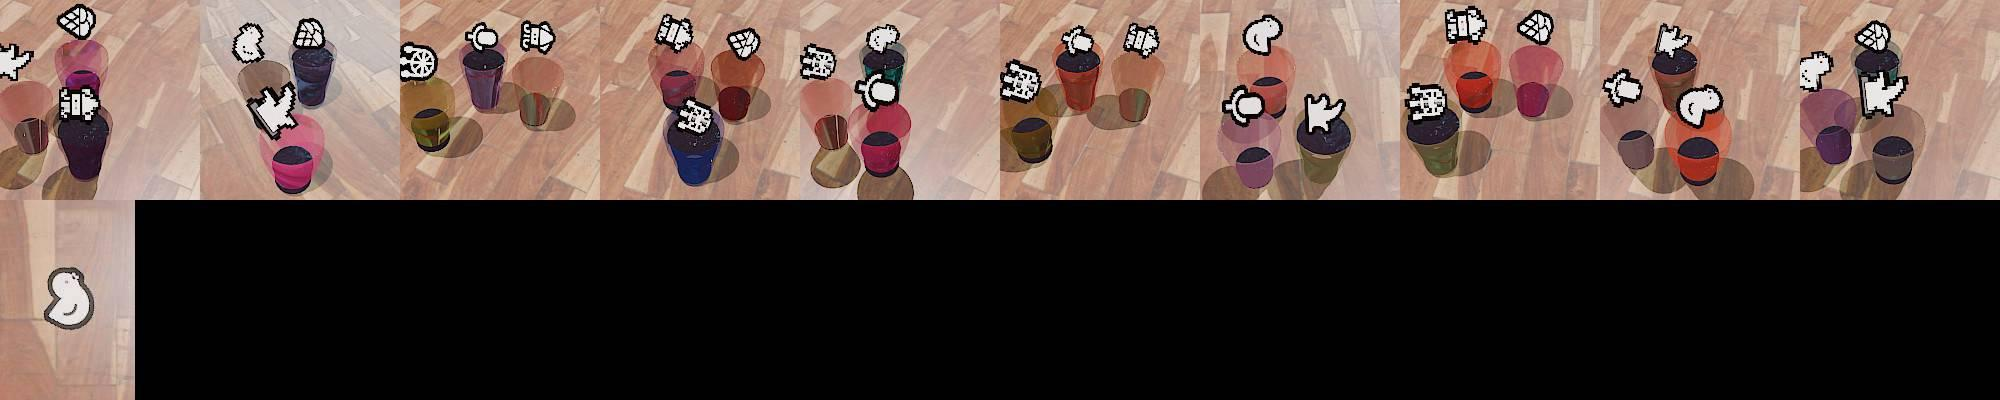icon: (42, 265, 96, 330), (245, 81, 300, 139), (1858, 70, 1907, 118), (1675, 84, 1726, 127), (1221, 83, 1268, 126), (1301, 91, 1346, 135), (999, 59, 1042, 102), (1404, 82, 1450, 122), (853, 69, 899, 109), (1242, 14, 1285, 56), (1443, 5, 1488, 44), (1602, 67, 1644, 107), (655, 13, 695, 53), (399, 41, 437, 83), (1798, 50, 1835, 92), (1654, 21, 1694, 59), (56, 4, 97, 41), (799, 43, 837, 81), (59, 85, 100, 120), (232, 23, 267, 64), (0, 42, 35, 83), (675, 99, 714, 135), (1516, 9, 1555, 45), (520, 19, 557, 56), (1124, 22, 1162, 58), (1855, 20, 1893, 53), (1059, 24, 1097, 56), (865, 22, 902, 54), (727, 27, 762, 60), (293, 18, 326, 51), (463, 21, 499, 51)
